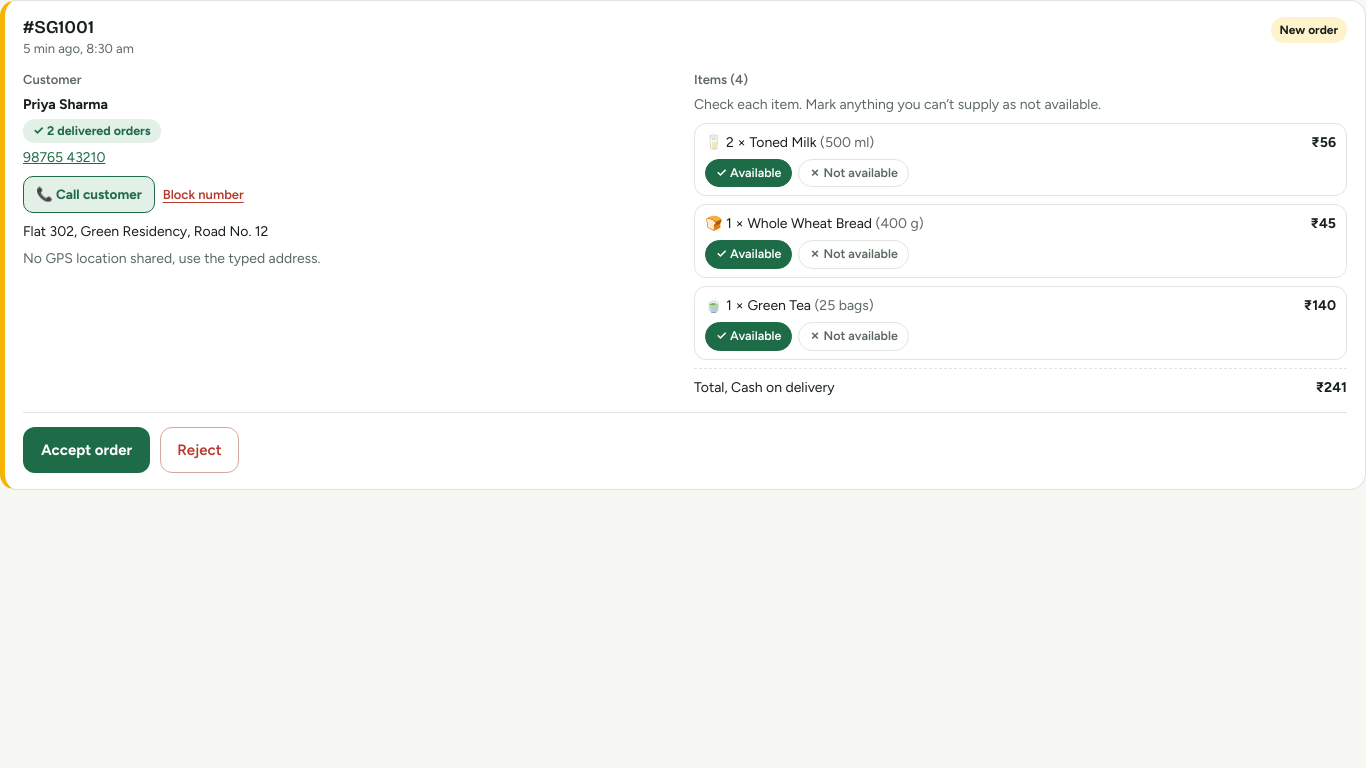
Test: AdminOrderCard › nothing available: only Reject is offered
Click the button "✗ Not available" below "Toned Milk": click(854, 173) [798,159,909,188]
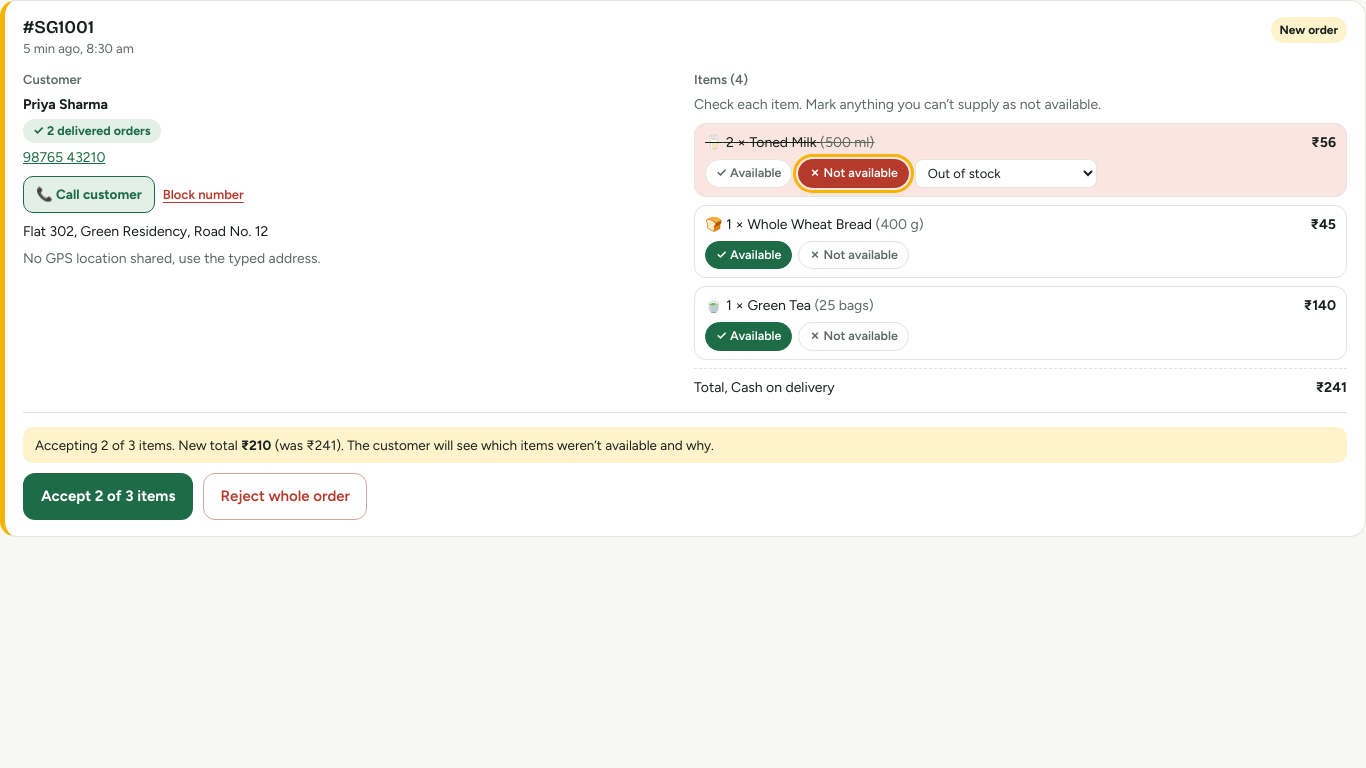
Click the button "✗ Not available" below "Whole Wheat Bread": click(854, 255) [798,241,909,270]
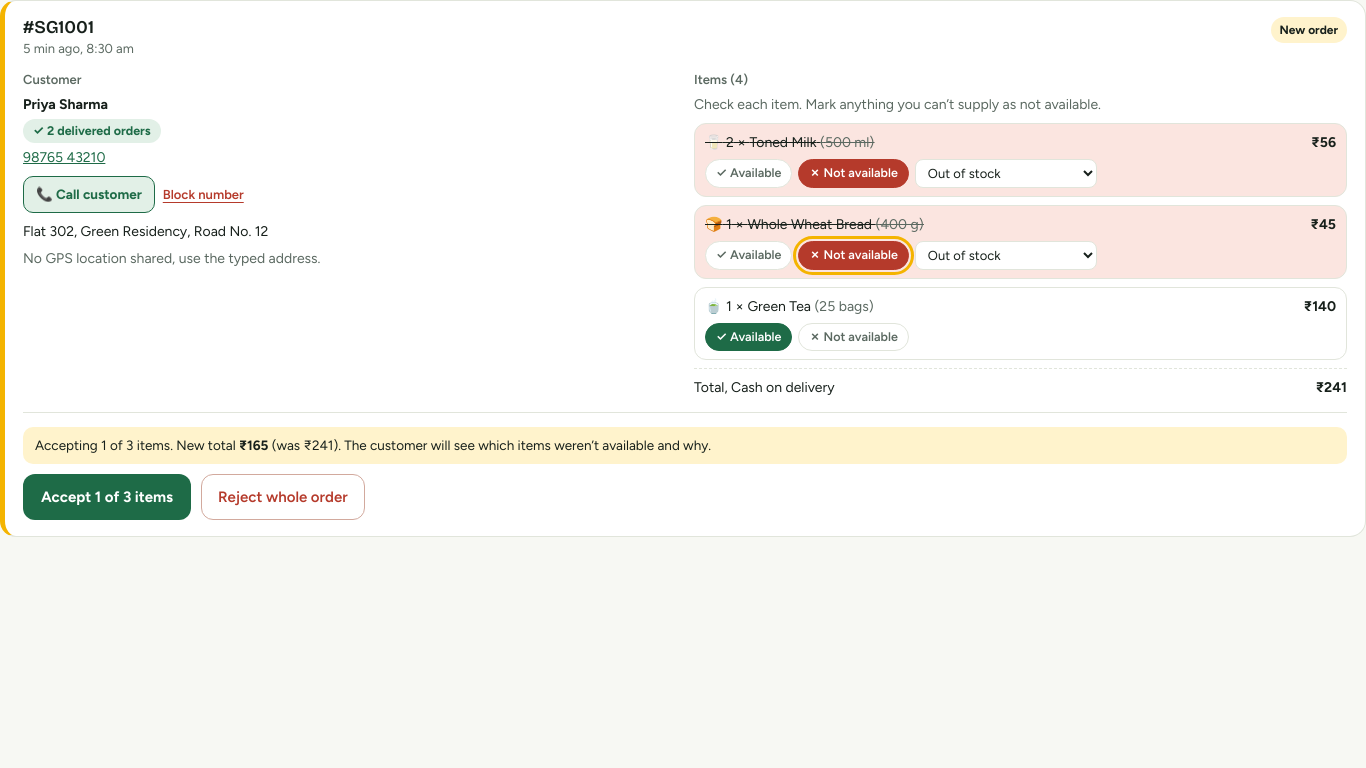
Click the button "✗ Not available" below "Green Tea": click(854, 337) [798,323,909,352]
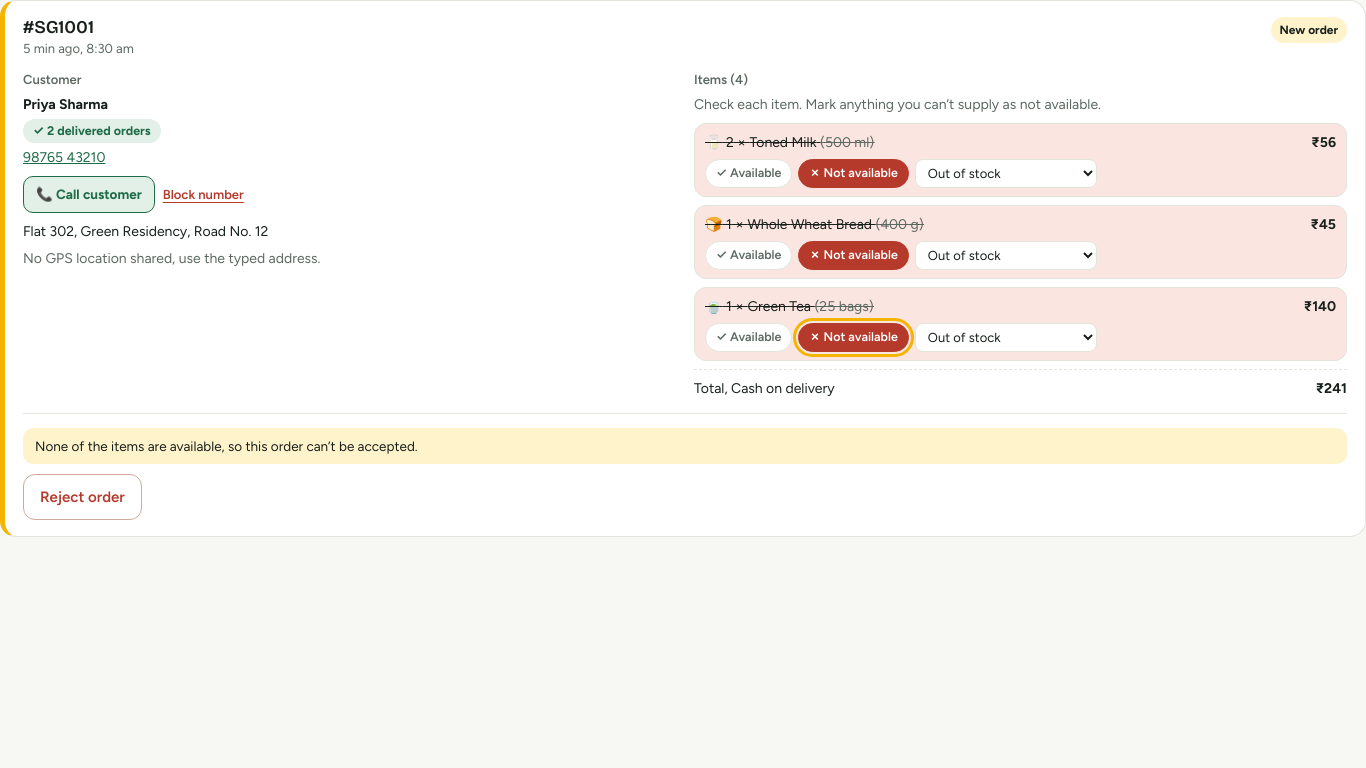
Check: the text "None of the items are available" is shown, box [35,438,418,454]
Check: the button "Reject order" is shown, box [23,474,142,520]
